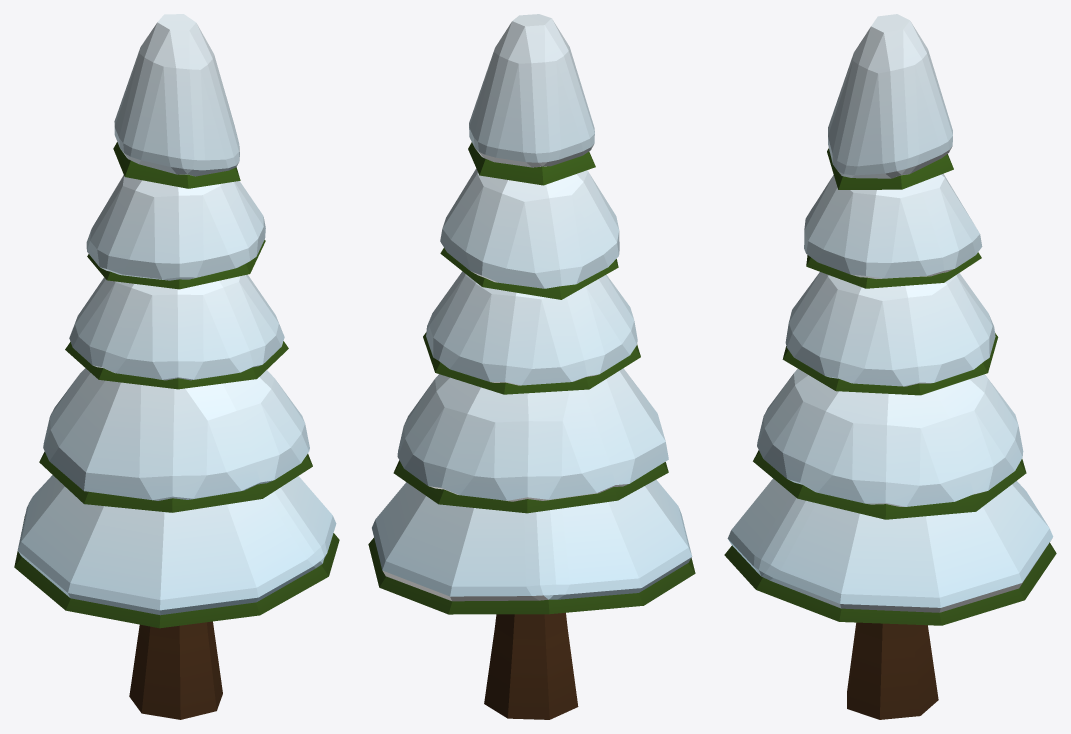
Rendered from sapin1_complet.fbx.
3 views of the same model, side by side, from view 1: azimuth 30°, elevation 25°; view 2: azimuth 150°, elevation 25°; view 3: azimuth 270°, elevation 25° (orthographic).
Parts seen in each view (by area): view 1: Cone.034, Cone.035, Cone.036, Cone.037, Cone.038, Cylinder.015, Cone.023, Cone.024, Cone.025, Cone.027, Cone.026; view 2: Cone.034, Cone.035, Cone.036, Cone.037, Cone.038, Cylinder.015, Cone.023, Cone.024, Cone.025, Cone.027, Cone.026; view 3: Cone.034, Cone.035, Cone.036, Cone.038, Cone.037, Cylinder.015, Cone.023, Cone.024, Cone.025, Cone.027, Cone.026.
Part boxes in pixels (<box>): Cone.034: <box>17,475,336,615</box>; Cone.035: <box>43,368,309,500</box>; Cone.036: <box>69,274,284,380</box>; Cone.037: <box>86,175,265,280</box>; Cone.038: <box>114,14,239,176</box>; Cylinder.015: <box>129,621,222,719</box>; Cone.023: <box>14,516,339,628</box>; Cone.024: <box>39,451,312,512</box>; Cone.025: <box>65,341,288,389</box>; Cone.027: <box>113,142,240,188</box>; Cone.026: <box>87,240,265,289</box>; Cone.034: <box>372,479,692,601</box>; Cone.035: <box>397,368,668,501</box>; Cone.036: <box>426,271,637,385</box>; Cone.037: <box>440,168,619,288</box>; Cone.038: <box>469,14,594,167</box>; Cylinder.015: <box>484,612,578,719</box>; Cone.023: <box>368,538,695,614</box>; Cone.024: <box>393,460,668,513</box>; Cone.025: <box>423,332,640,394</box>; Cone.027: <box>468,142,595,185</box>; Cone.026: <box>440,248,618,299</box>; Cone.034: <box>727,478,1053,612</box>; Cone.035: <box>757,369,1023,506</box>; Cone.036: <box>785,272,995,386</box>; Cone.038: <box>828,14,952,178</box>; Cone.037: <box>804,173,982,278</box>; Cylinder.015: <box>847,622,938,719</box>; Cone.023: <box>724,542,1056,625</box>; Cone.024: <box>753,450,1026,519</box>; Cone.025: <box>782,333,998,395</box>; Cone.027: <box>827,148,953,189</box>; Cone.026: <box>806,252,981,288</box>.
Size of the model in its own units: 4.66 by 11.03 by 4.9.
1 material, 1 textured.
